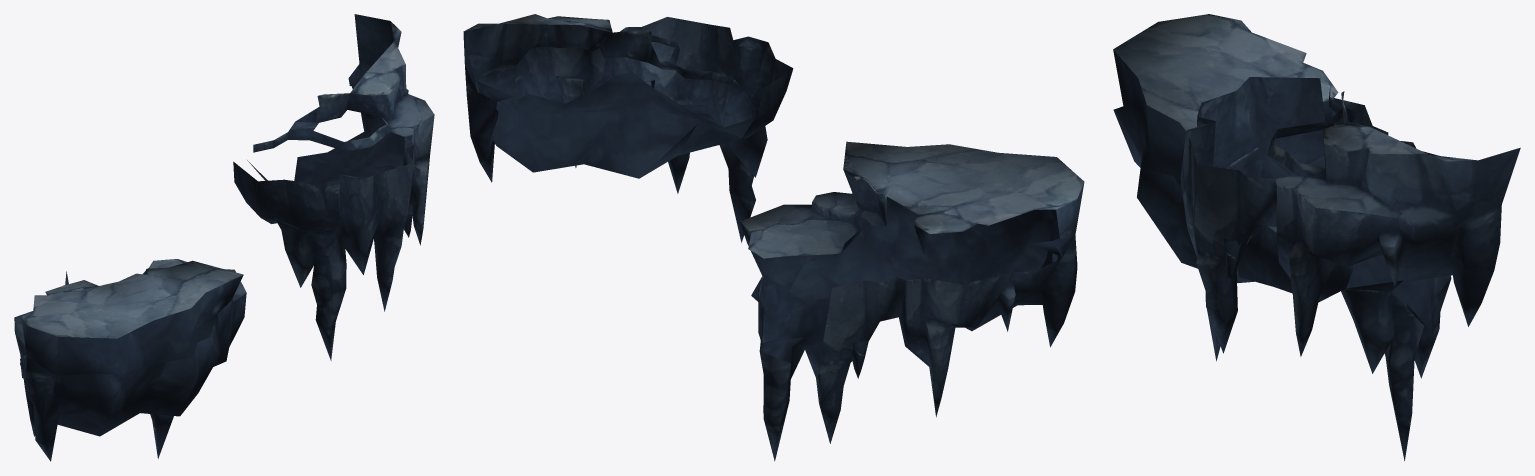
The model's file is Area_01_20.fbx.
The picture shows the model from 3 angles, left to right: view 1: azimuth 30°, elevation 25°; view 2: azimuth 150°, elevation 25°; view 3: azimuth 270°, elevation 25°; orthographic projection. The views are drawn at different scales.
Visible parts, largest first — view 1: Area_01_20; view 2: Area_01_20; view 3: Area_01_20.
Boxes of the visible parts, bbox=[...] form: Area_01_20: bbox=[14, 14, 434, 461]; Area_01_20: bbox=[463, 14, 1084, 461]; Area_01_20: bbox=[1113, 14, 1520, 460].
Bounding box in the file's own units: 4924 × 3584 × 2820.
